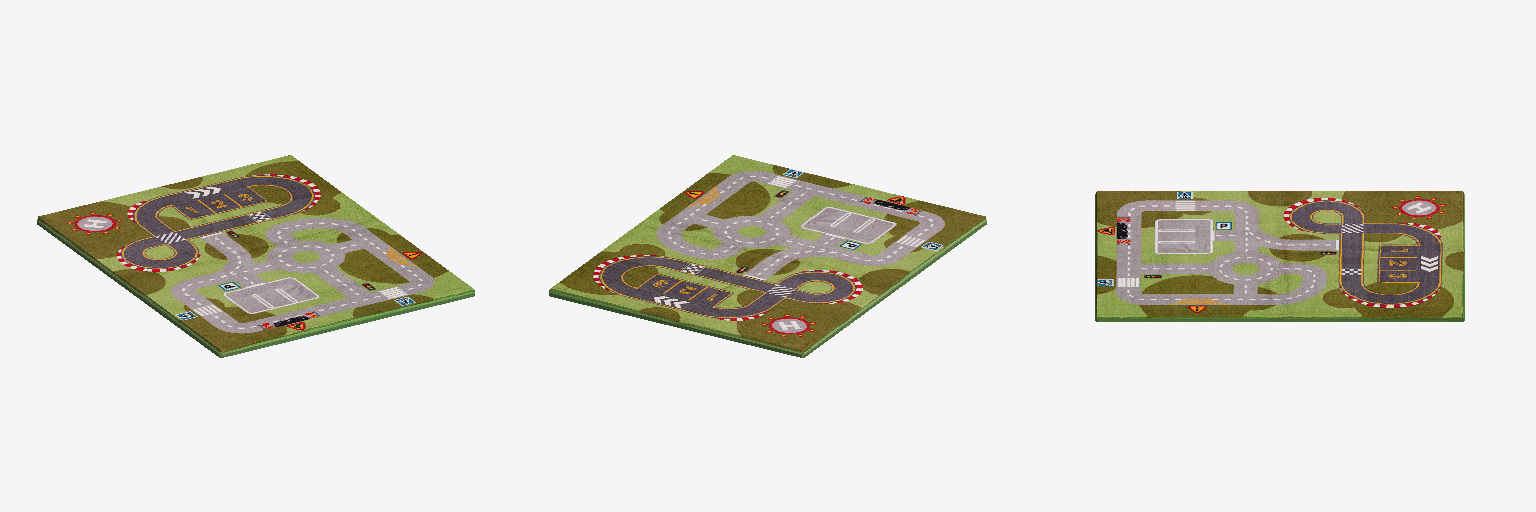
3 views of the same model, side by side, from view 1: azimuth 30°, elevation 25°; view 2: azimuth 150°, elevation 25°; view 3: azimuth 270°, elevation 25° (orthographic).
Visible parts, largest first — view 1: mat; view 2: mat; view 3: mat.
Part boxes in pixels (x1,y1,x2,y2): mat: (37,155,474,357); mat: (549,155,986,357); mat: (1095,191,1464,321).
Size of the model in its own units: 44.74 by 1.16 by 55.97.
Materials: 1 (1 with a texture image).